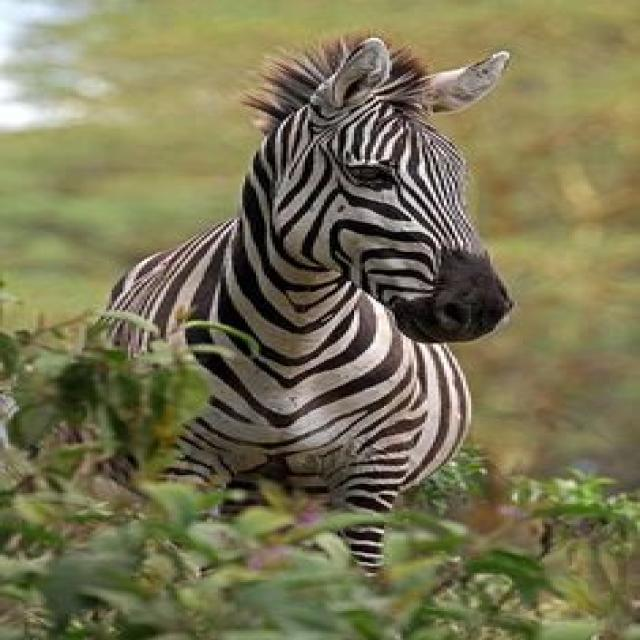Herbivorous: (84, 34, 515, 519)
